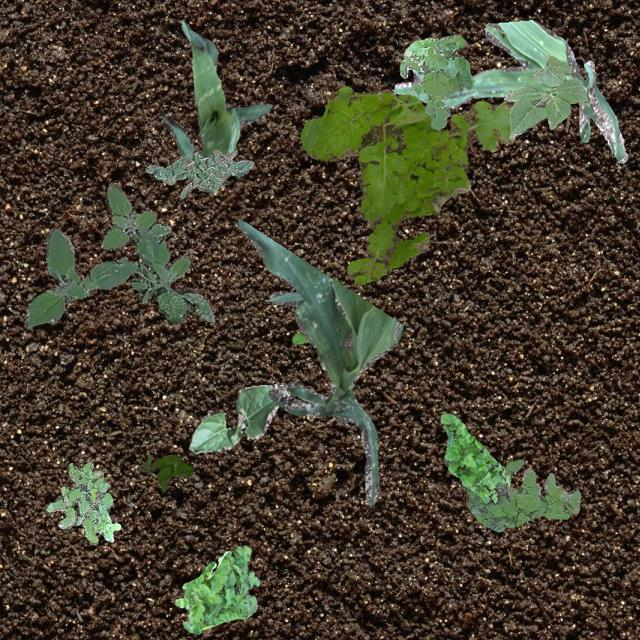crop: (236, 218, 402, 504), (392, 18, 626, 162), (160, 20, 270, 182), (188, 382, 290, 452), (503, 54, 587, 138)
weed: (300, 86, 512, 286), (23, 182, 214, 328), (466, 458, 580, 530), (174, 544, 258, 634), (398, 34, 472, 128), (438, 412, 508, 502), (44, 462, 120, 542), (144, 148, 252, 198), (136, 454, 192, 491), (290, 332, 308, 342)
